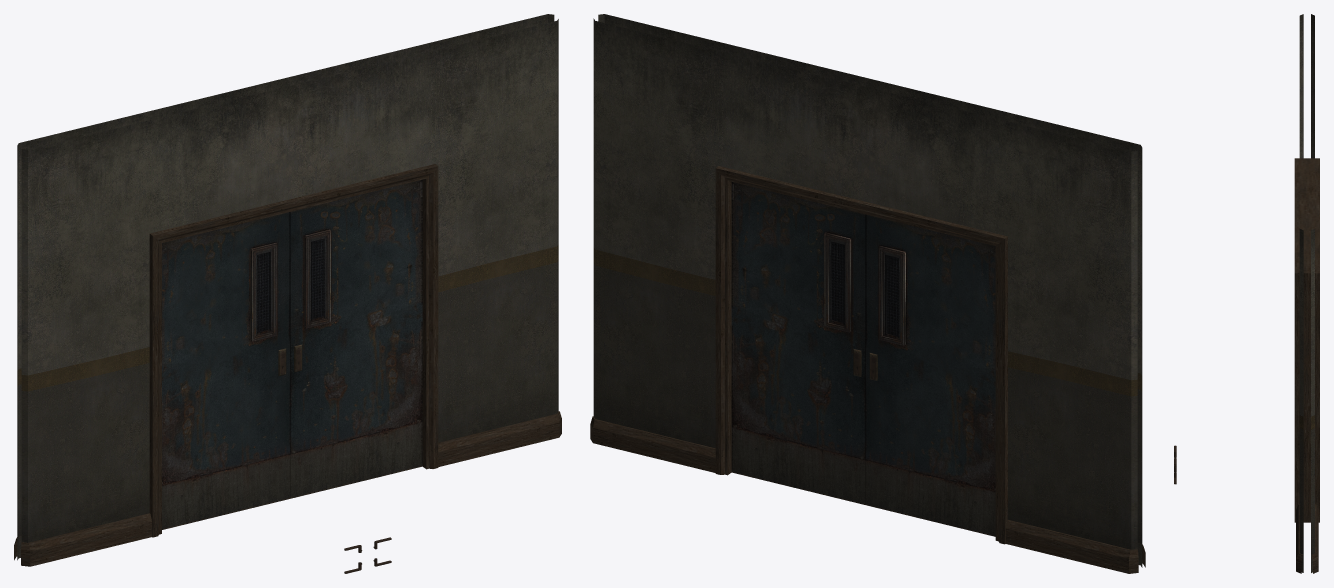
Rendered from doorway_3_wide.fbx.
The picture shows the model from 3 angles, left to right: view 1: azimuth 30°, elevation 25°; view 2: azimuth 150°, elevation 25°; view 3: azimuth 270°, elevation 25°; orthographic projection. The views are drawn at different scales.
Parts seen in each view (by area): view 1: doorway_3_wide, double_door_3_piece_2, double_door_3_piece_1; view 2: doorway_3_wide, double_door_3_piece_2, double_door_3_piece_1; view 3: doorway_3_wide.
Part boxes in pixels (x1,y1,x2,y2): doorway_3_wide: (14, 14, 561, 566); double_door_3_piece_2: (290, 179, 422, 498); double_door_3_piece_1: (162, 212, 290, 529); doorway_3_wide: (590, 14, 1145, 573); double_door_3_piece_2: (731, 182, 865, 504); double_door_3_piece_1: (865, 214, 995, 536); doorway_3_wide: (1294, 14, 1319, 573).
Size of the model in its own units: 4.09 by 3.09 by 1.16.
Materials: 5 (5 with a texture image).
